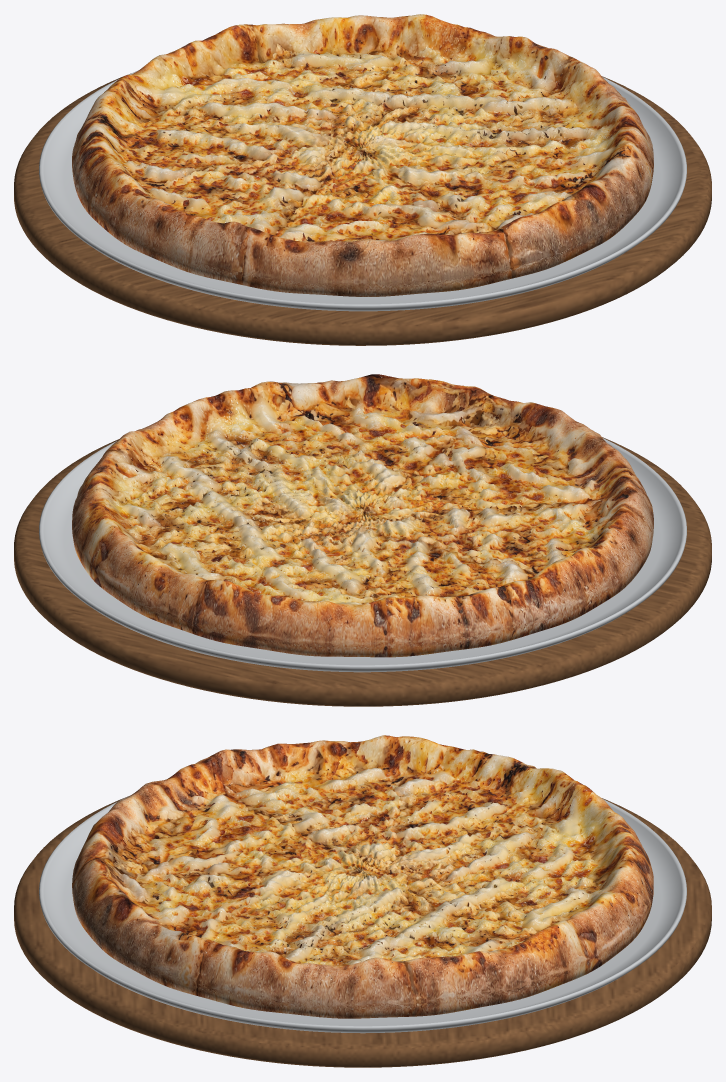
The model's file is pizza_referencia.glb.
The picture shows the model from 3 angles, top to bottom: view 1: azimuth 30°, elevation 25°; view 2: azimuth 150°, elevation 25°; view 3: azimuth 270°, elevation 25°; orthographic projection.
Visible parts, largest first — view 1: Pizza frango e catupiry • 35 cm, Base de madeira • 42 cm, Assadeira de alumínio • 39 cm; view 2: Pizza frango e catupiry • 35 cm, Base de madeira • 42 cm, Assadeira de alumínio • 39 cm; view 3: Pizza frango e catupiry • 35 cm, Base de madeira • 42 cm, Assadeira de alumínio • 39 cm.
Part boxes in pixels (x1,y1,x2,y2): Pizza frango e catupiry • 35 cm: (72, 14, 653, 296); Base de madeira • 42 cm: (14, 73, 711, 345); Assadeira de alumínio • 39 cm: (39, 70, 686, 311); Pizza frango e catupiry • 35 cm: (72, 374, 653, 657); Base de madeira • 42 cm: (14, 437, 711, 706); Assadeira de alumínio • 39 cm: (39, 438, 686, 672); Pizza frango e catupiry • 35 cm: (72, 735, 653, 1018); Base de madeira • 42 cm: (14, 796, 711, 1067); Assadeira de alumínio • 39 cm: (39, 796, 686, 1033).
Size of the model in its own units: 0.42 by 0.0512 by 0.42.
3 materials, 2 textured.
